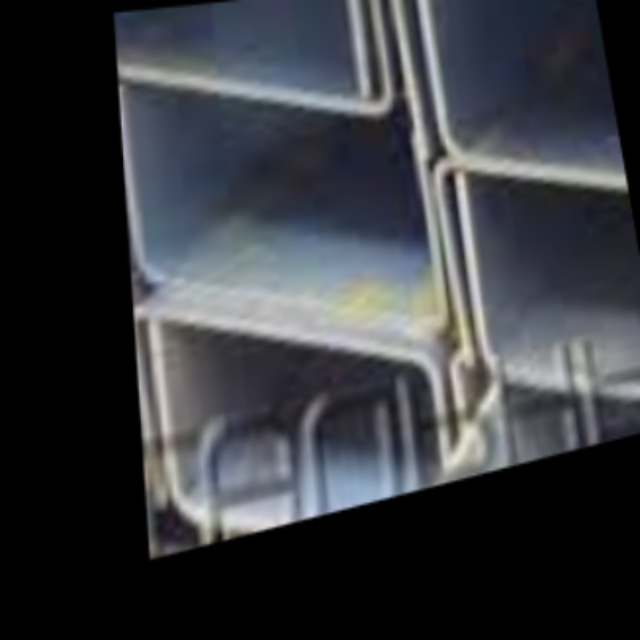Shveller: (124, 56, 445, 379), (158, 268, 471, 553), (134, 261, 447, 520), (442, 138, 640, 459), (465, 146, 640, 468), (399, 0, 628, 225), (423, 0, 630, 233)
